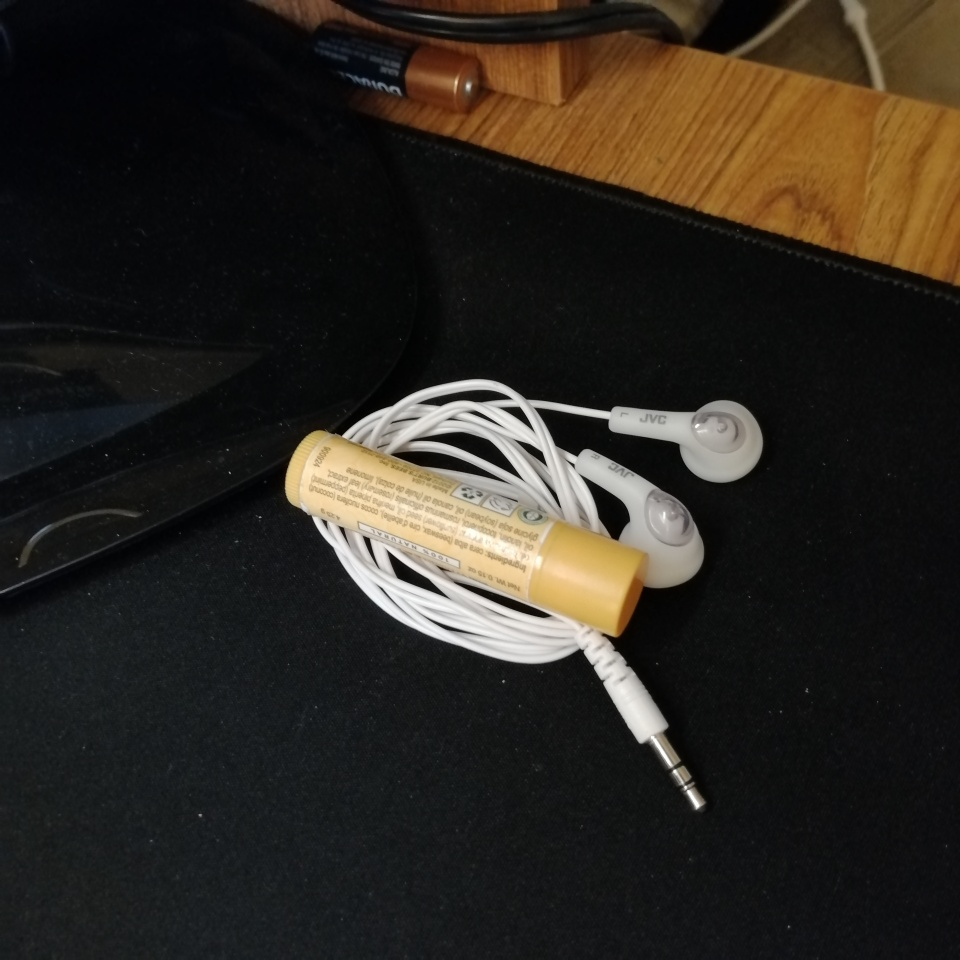chapstick: (285, 429, 649, 637)
